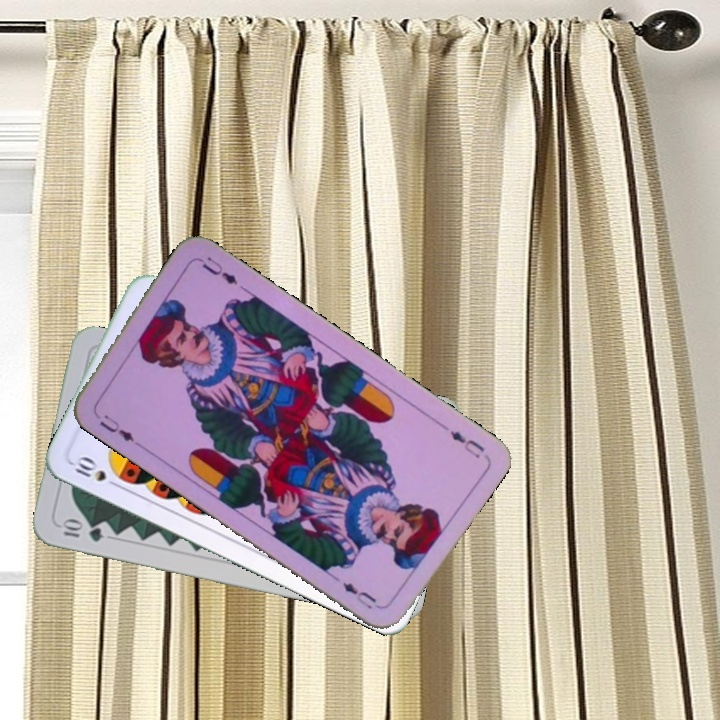EU: (90, 408, 142, 447), (446, 426, 487, 462)
G10: (56, 516, 106, 545)
S10: (71, 452, 123, 491)
